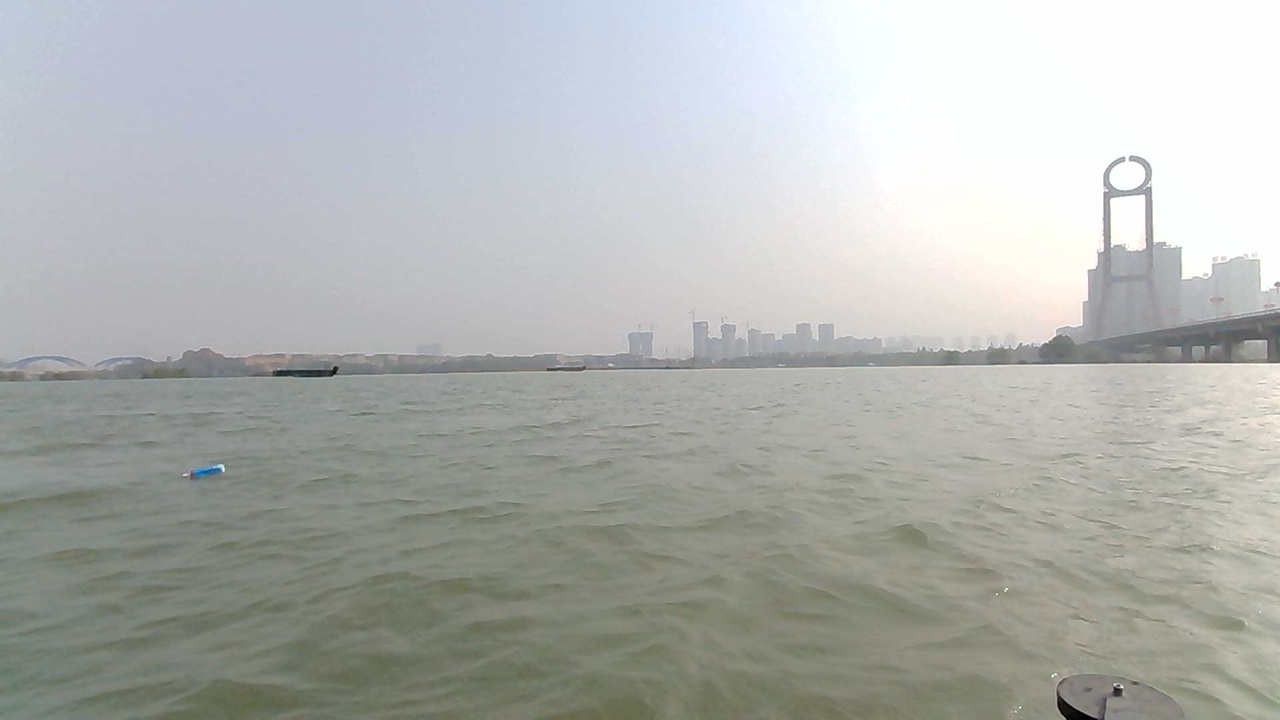bottle: (178, 461, 233, 487)
